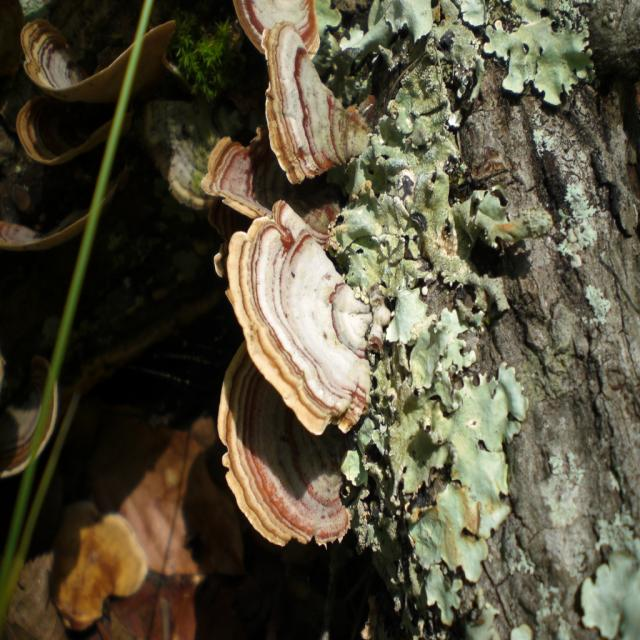mushroom: (0, 0, 394, 639), (215, 194, 392, 527)
